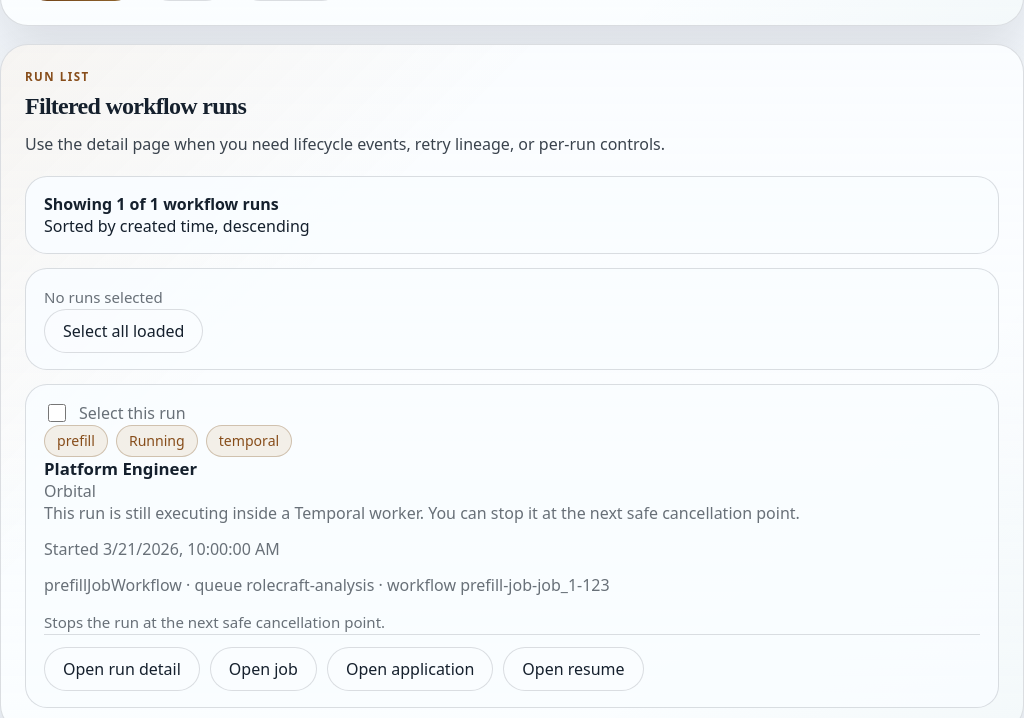
it: WorkflowRunsPage shared workflow-run cards › renders shared workflow-run cards with selection and drill-down links
The image size is (1024, 718).
(page scrolled)
Check: the heading "Platform Engineer" is shown, box [44, 457, 197, 480]
Check: the text "Orbital" is shown, box [44, 480, 96, 502]
Click the checkbox at (57, 413), box [48, 404, 66, 422]
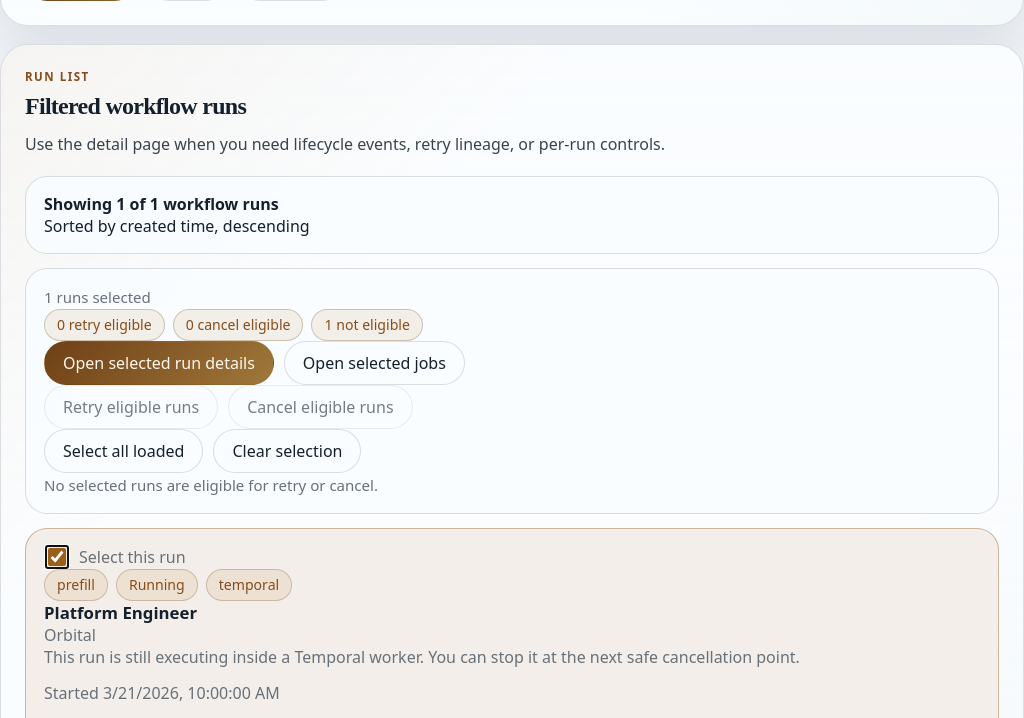
Check: the text "1 runs selected" is shown, box [44, 287, 151, 307]
Check: the button "Open selected run details" is shown, box [44, 341, 274, 385]
